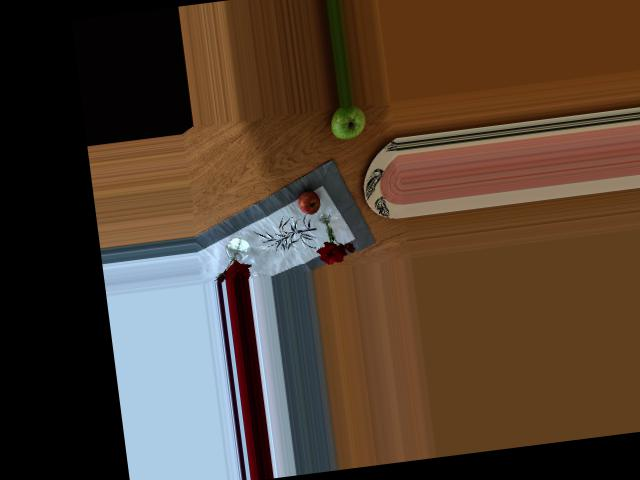apple: (327, 103, 369, 142)
